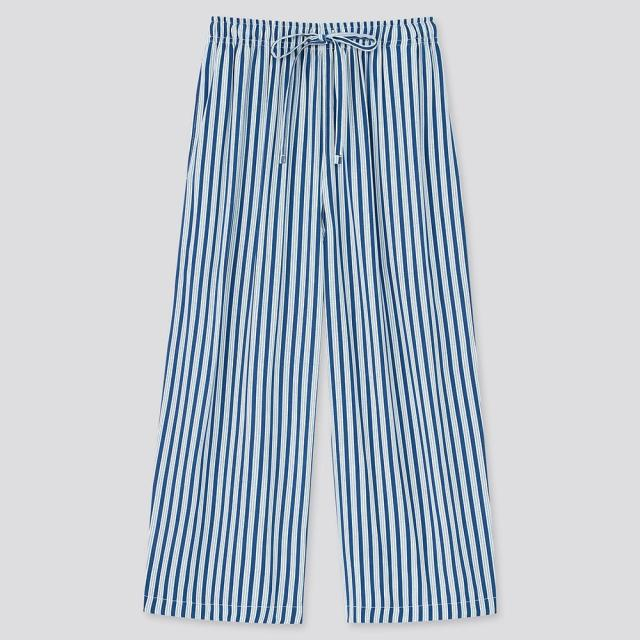long-pants: (140, 17, 506, 639)
